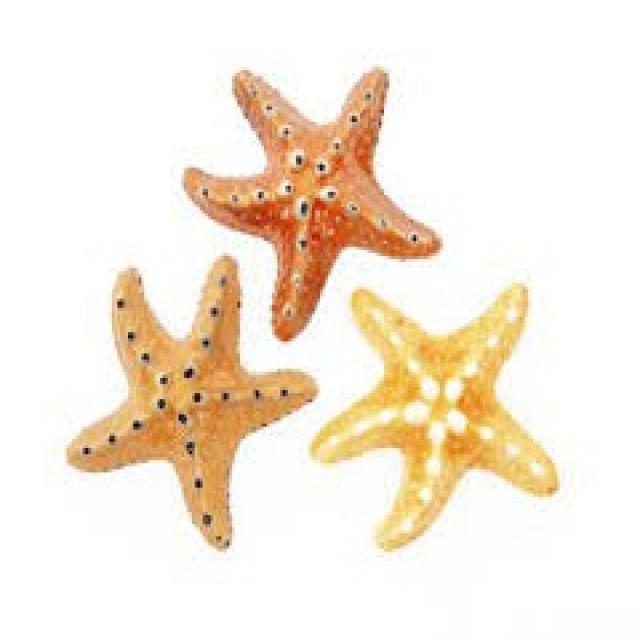starfish: (67, 256, 315, 546), (184, 67, 437, 338), (309, 283, 557, 549)
